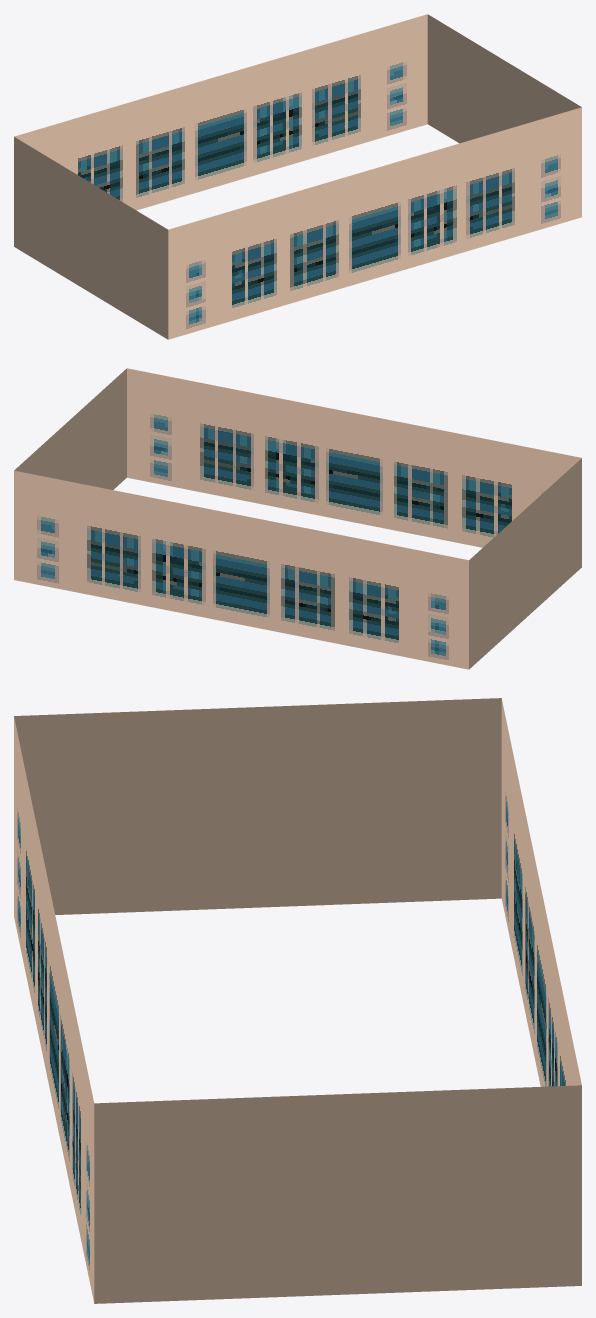
3 views of the same model, one above another, from view 1: azimuth 30°, elevation 25°; view 2: azimuth 150°, elevation 25°; view 3: azimuth 270°, elevation 25° (orthographic). The views are drawn at different scales.
Parts seen in each view (by area): view 1: obj-94; view 2: obj-94; view 3: obj-94.
Boxes of the visible parts, left/top/right/bottom form: obj-94: left=14, top=14, right=581, bottom=339; obj-94: left=14, top=368, right=581, bottom=669; obj-94: left=14, top=698, right=581, bottom=1303.
Size of the model in its own units: 5.53 by 1.28 by 3.27.
1 material, 1 textured.
